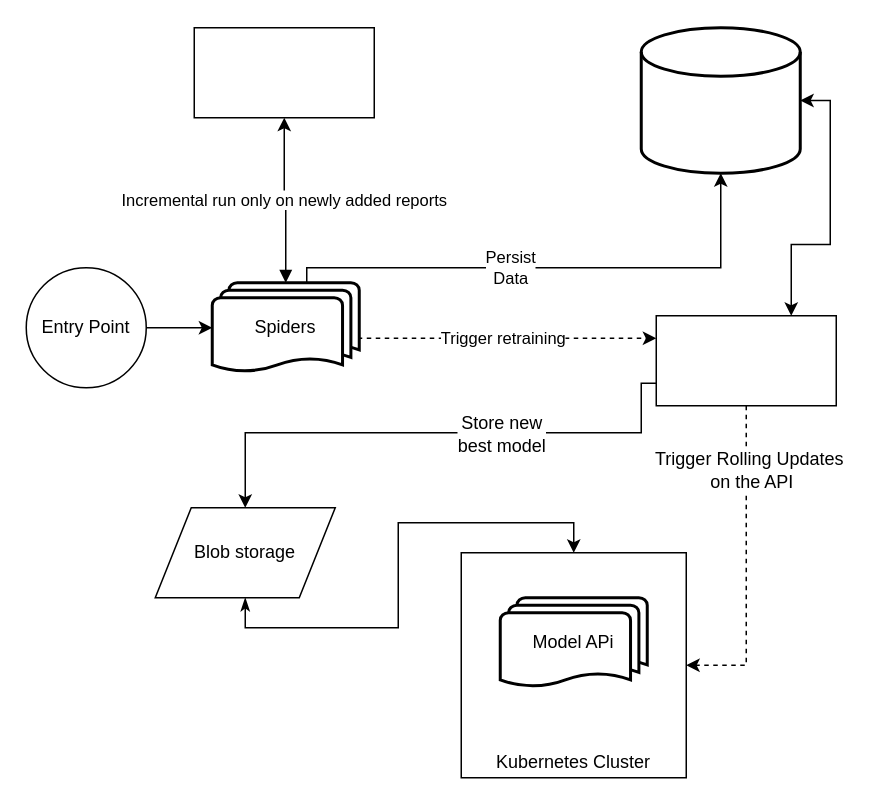
Image size: 870x804. Some labels were removed from this diagram. Here are the shapes that lost their labels. From the top down, the centre of each, then its label:
At point (283, 72): "Trustpilot API".
At point (720, 100): "Review Stored data".
At point (745, 360): "Sentiment Analyzer".
